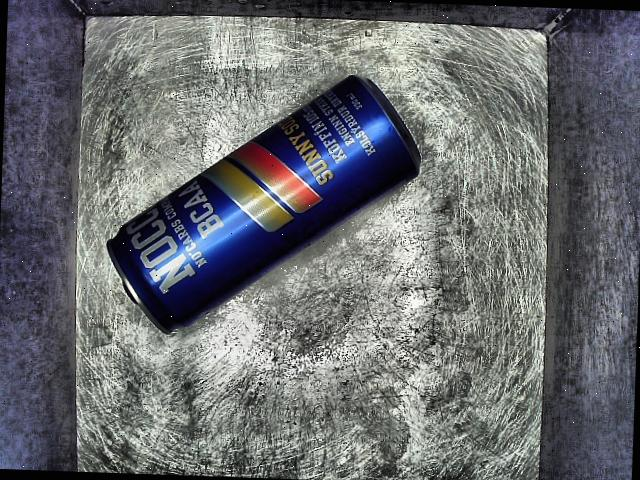Bottles: (74, 56, 466, 356)
